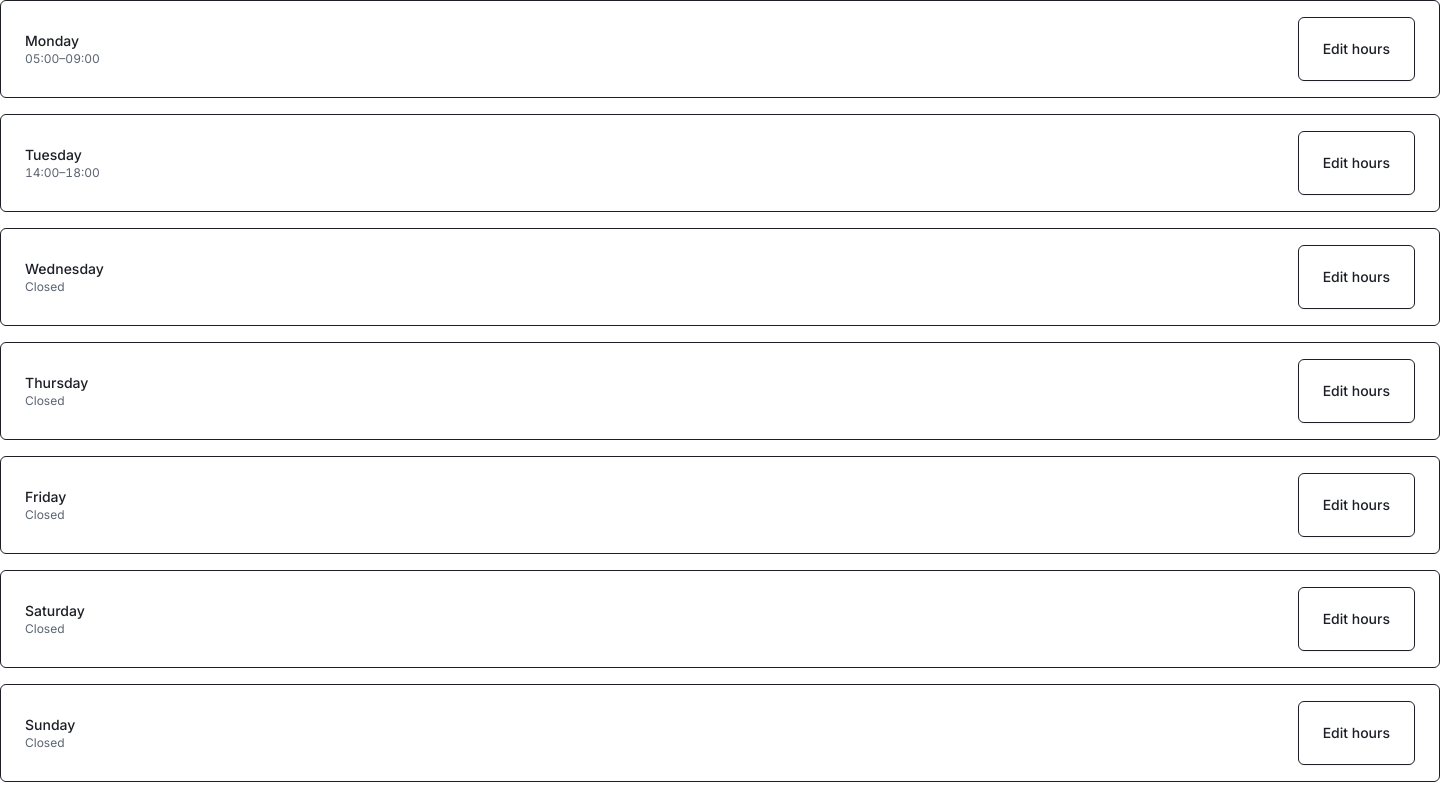
it: WeeklyScheduleEditor › opening a day that already has ranges shows ITS ranges, not carry-forward
This screenshot has width=1440, height=810.
What coordinates should you click on to do the following:
click the button with aria-label "edit tuesday hours"
I would click on:
 (1356, 163)
Its box is [1298,131,1415,195].
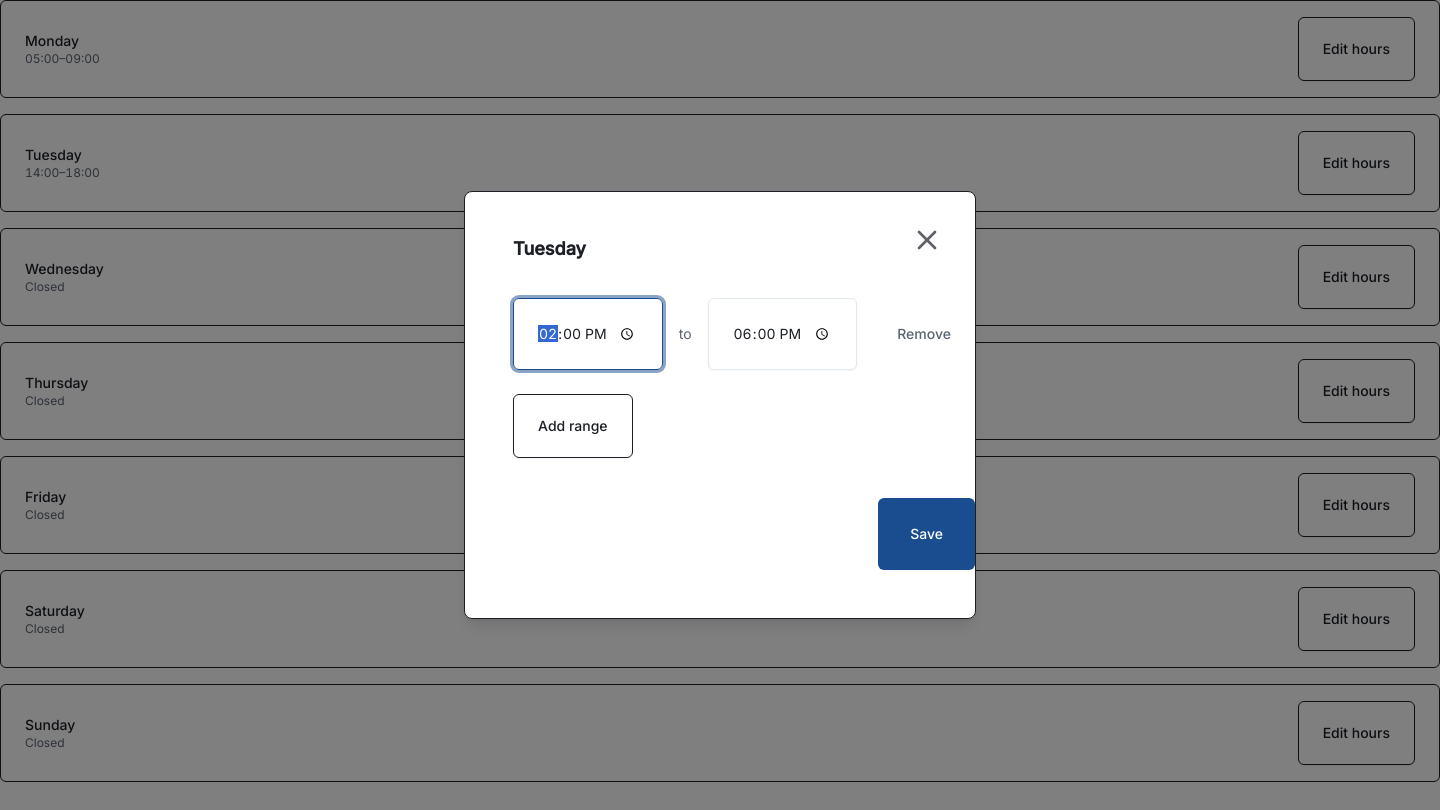
Now the time field named "start" holds "14:00", box [513,298,663,370]
